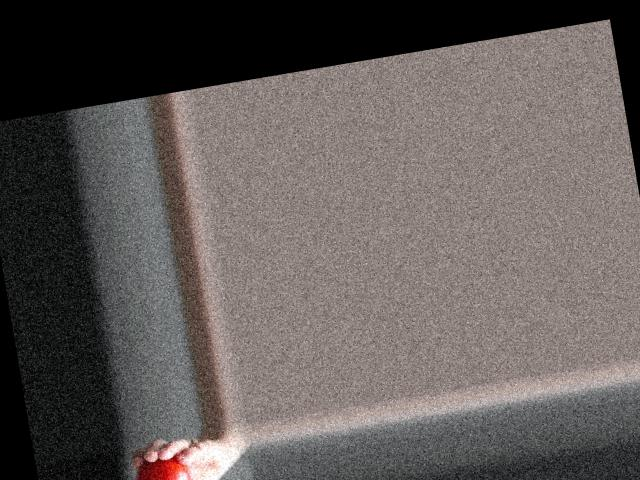tomato: (132, 453, 195, 480)
